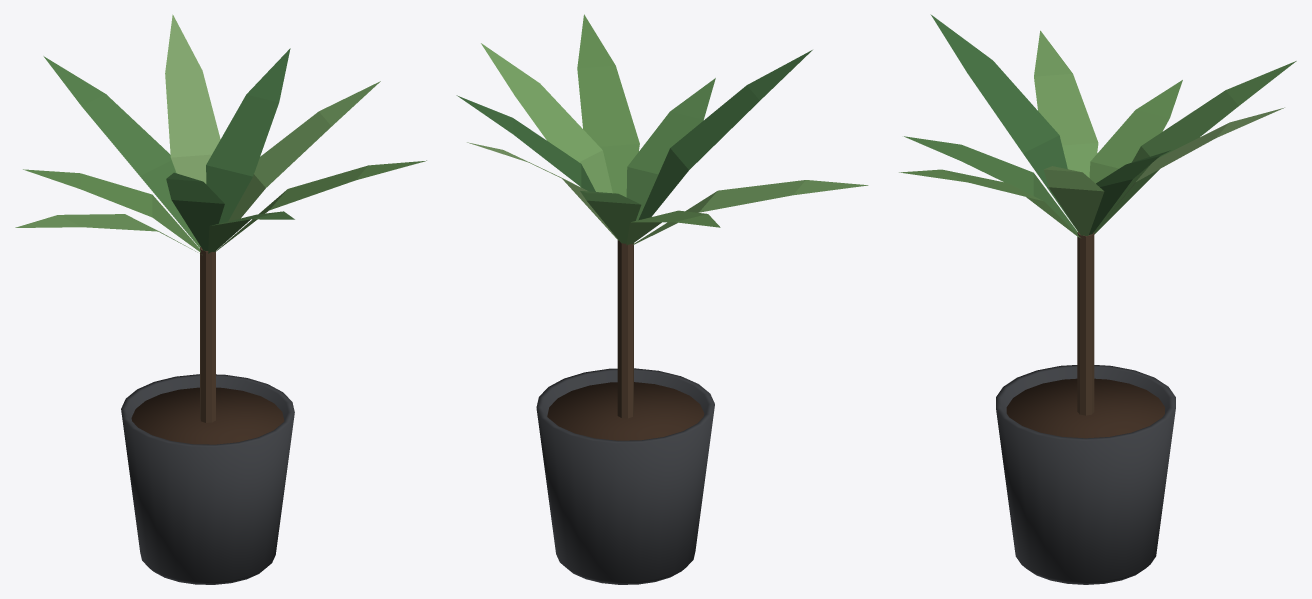
The model's file is i_plant_3.glb.
3 renders of one model, left to right at view 1: azimuth 30°, elevation 25°; view 2: azimuth 150°, elevation 25°; view 3: azimuth 270°, elevation 25°, orthographic. The views are drawn at different scales.
Visible parts, largest first — view 1: o, o.001, o.007, o.006, o.008, o.005, o.002, o.009, o.011, o.004, o.010, o.003; view 2: o, o.001, o.004, o.011, o.005, o.003, o.002, o.010, o.006, o.008, o.009, o.007; view 3: o, o.001, o.011, o.010, o.008, o.009, o.002, o.003, o.005, o.006, o.004, o.007.
Part boxes in pixels (left/top/right/bottom): o: left=121, top=374, right=294, bottom=584; o.001: left=131, top=387, right=284, bottom=444; o.007: left=165, top=14, right=220, bottom=183; o.006: left=206, top=48, right=290, bottom=223; o.008: left=43, top=56, right=200, bottom=247; o.005: left=228, top=81, right=380, bottom=221; o.002: left=200, top=247, right=215, bottom=422; o.009: left=23, top=169, right=200, bottom=252; o.011: left=166, top=172, right=224, bottom=250; o.004: left=214, top=160, right=426, bottom=252; o.010: left=15, top=214, right=197, bottom=252; o.003: left=208, top=211, right=294, bottom=253; o: left=536, top=368, right=714, bottom=584; o.001: left=547, top=382, right=704, bottom=440; o.004: left=577, top=14, right=639, bottom=197; o.011: left=638, top=50, right=812, bottom=220; o.005: left=481, top=43, right=612, bottom=193; o.003: left=626, top=78, right=715, bottom=220; o.002: left=617, top=240, right=633, bottom=418; o.010: left=633, top=180, right=868, bottom=244; o.006: left=456, top=95, right=595, bottom=191; o.008: left=580, top=190, right=641, bottom=243; o.009: left=626, top=210, right=720, bottom=245; o.007: left=467, top=142, right=618, bottom=240; o: left=996, top=365, right=1175, bottom=584; o.001: left=1006, top=378, right=1164, bottom=438; o.011: left=930, top=14, right=1078, bottom=231; o.010: left=1034, top=30, right=1098, bottom=177; o.008: left=1094, top=61, right=1296, bottom=234; o.009: left=1089, top=80, right=1182, bottom=183; o.002: left=1077, top=232, right=1094, bottom=415; o.003: left=904, top=136, right=1077, bottom=234; o.005: left=1043, top=166, right=1104, bottom=235; o.006: left=1089, top=150, right=1170, bottom=234; o.004: left=899, top=169, right=1080, bottom=237; o.007: left=1096, top=107, right=1284, bottom=230.
Size of the model in its own units: 0.7925 by 0.9473 by 0.702.
